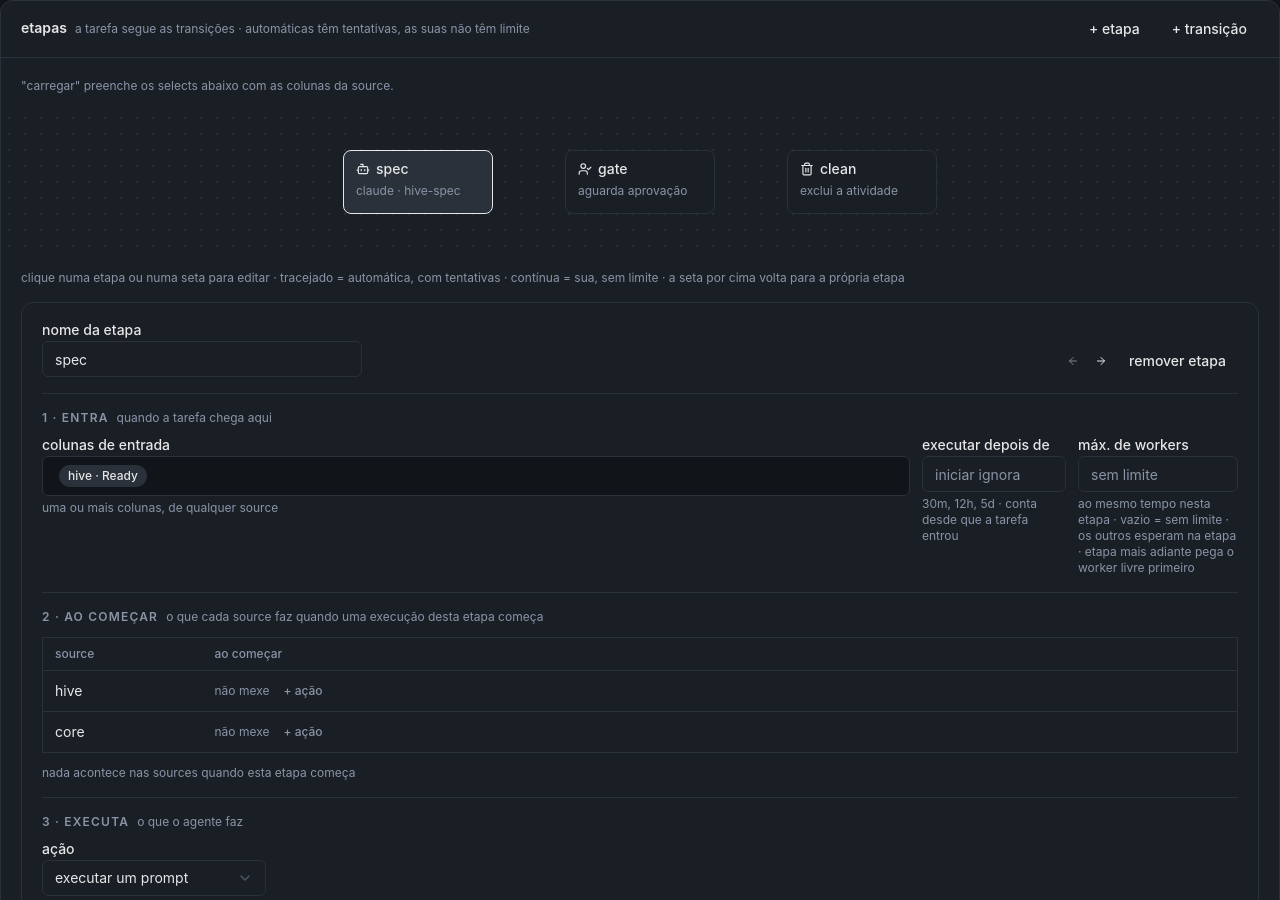
the selected stage moves earlier or later and stays selected; remove selects its neighbour; there is no avançado (#515)
Expected: the button named "mover a etapa para antes" is disabled, [1061,349,1085,373]
Click the button named "mover a etapa para depois".
click(1101, 361)  # box [1089,349,1113,373]
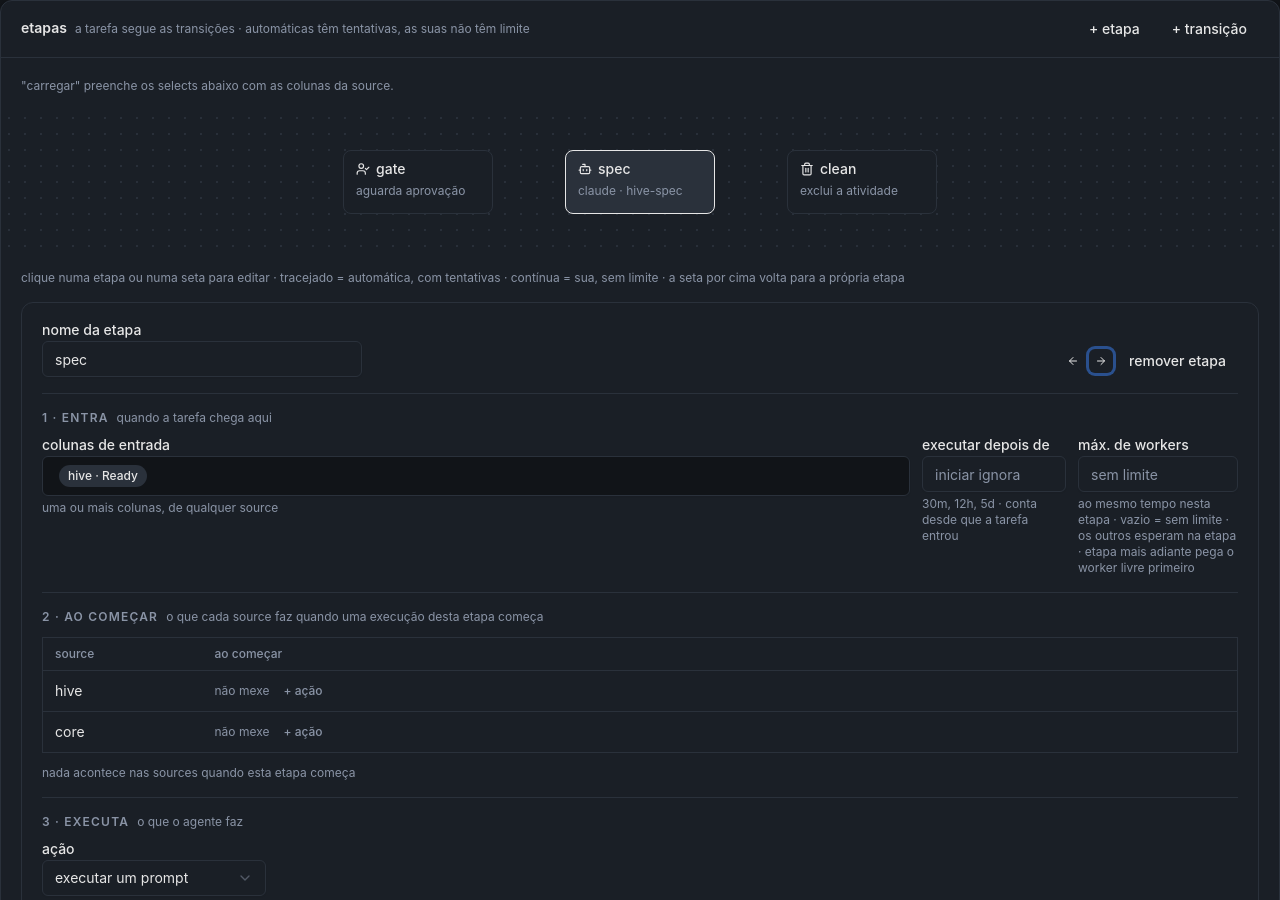
Click the button "remover etapa".
click(1178, 361)  # box [1117,345,1238,377]
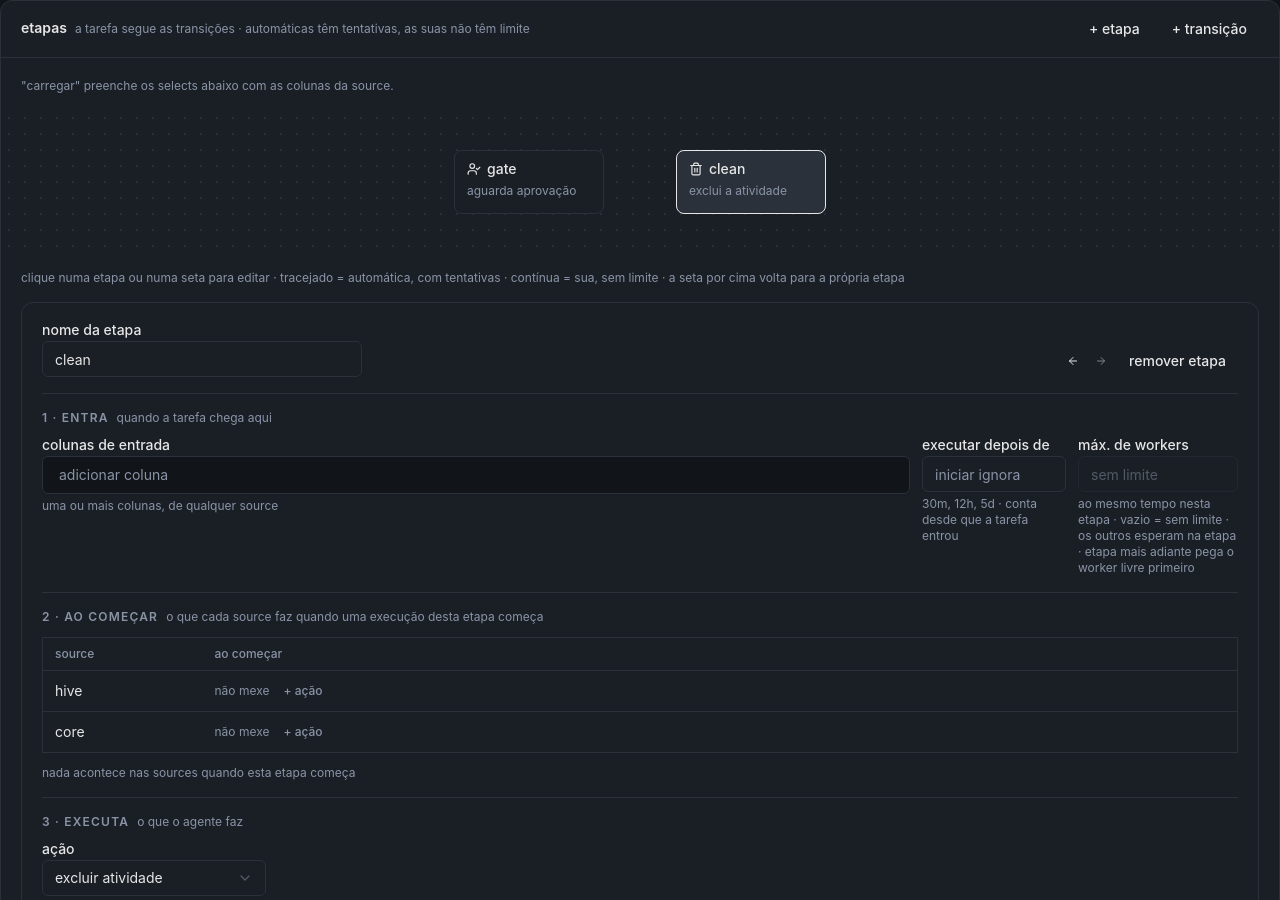
Now the field labelled "nome da etapa" holds "clean", box [42,341,362,377]
Click the button "remover etapa".
click(1178, 361)  # box [1117,345,1238,377]
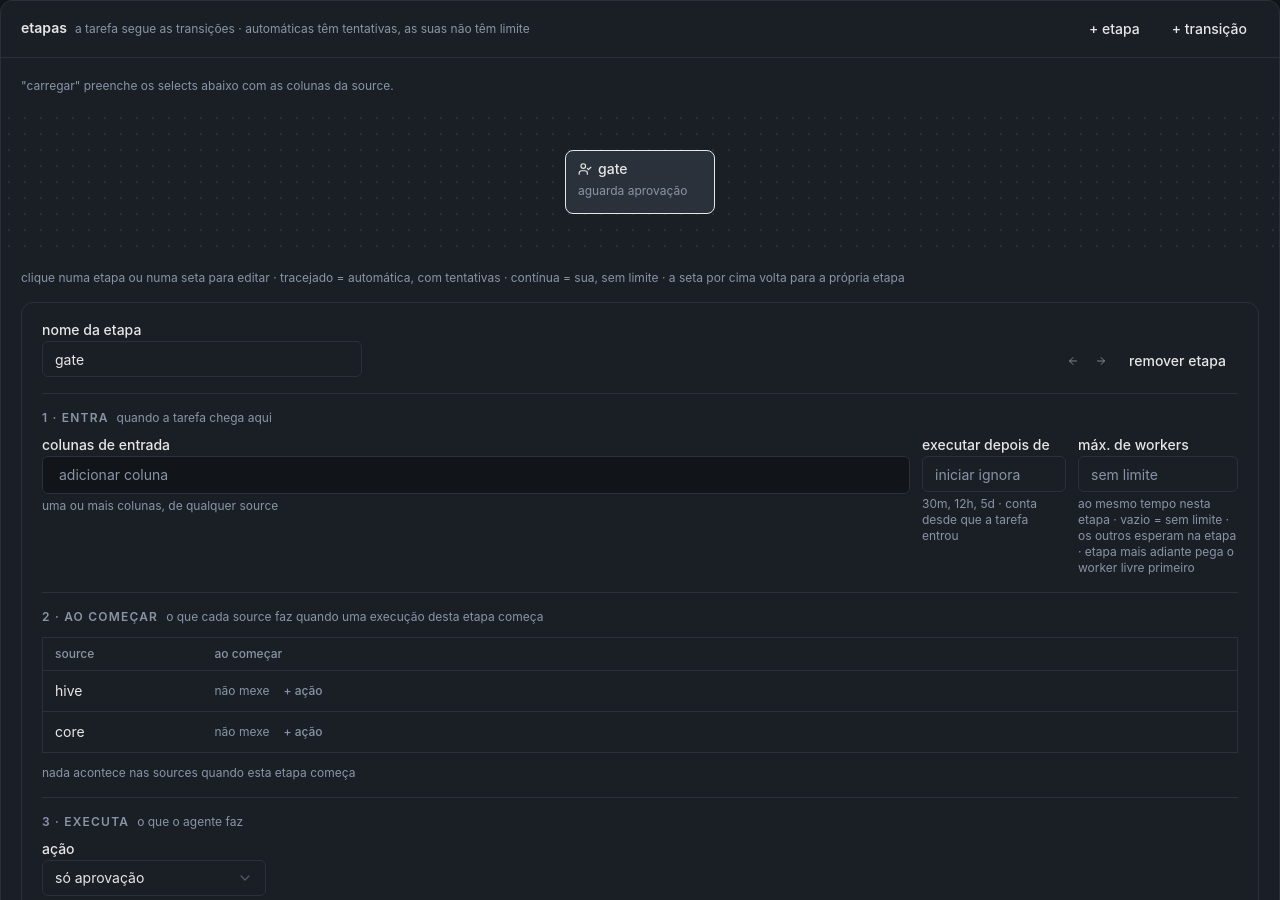
Now the field labelled "nome da etapa" holds "gate", box [42,341,362,377]
